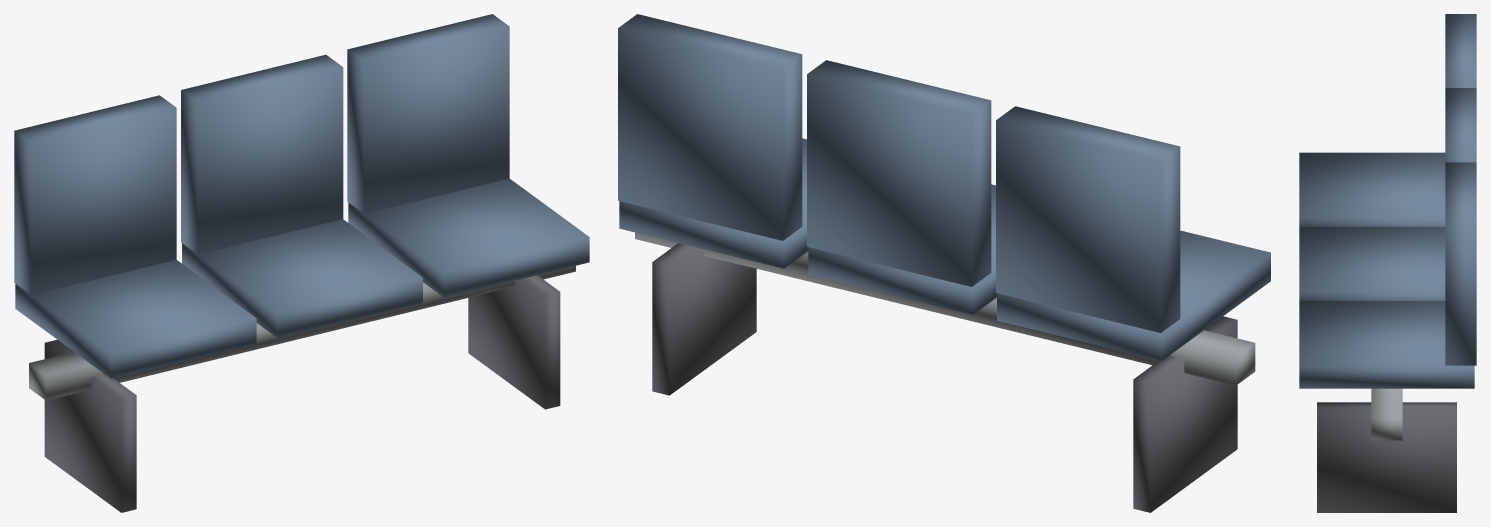
File: waiting_chair_beam_row__deep.glb
The picture shows the model from 3 angles, left to right: view 1: azimuth 30°, elevation 25°; view 2: azimuth 150°, elevation 25°; view 3: azimuth 270°, elevation 25°; orthographic projection. The views are drawn at different scales.
Parts seen in each view (by area): view 1: world; view 2: world; view 3: world.
Boxes of the visible parts, left/top/right/bottom form: world: left=14, top=14, right=589, bottom=512; world: left=618, top=14, right=1270, bottom=512; world: left=1299, top=14, right=1476, bottom=512.
Size of the model in its own units: 1.75 by 1.02 by 0.5551.
